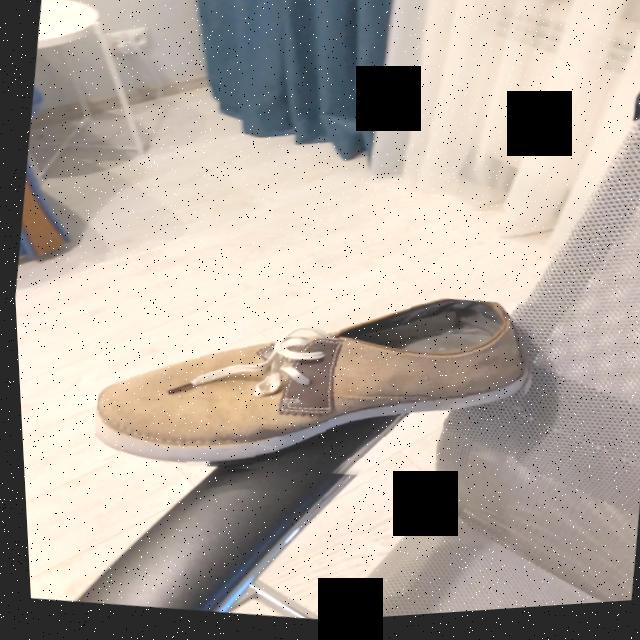shoe: (90, 305, 525, 470)
